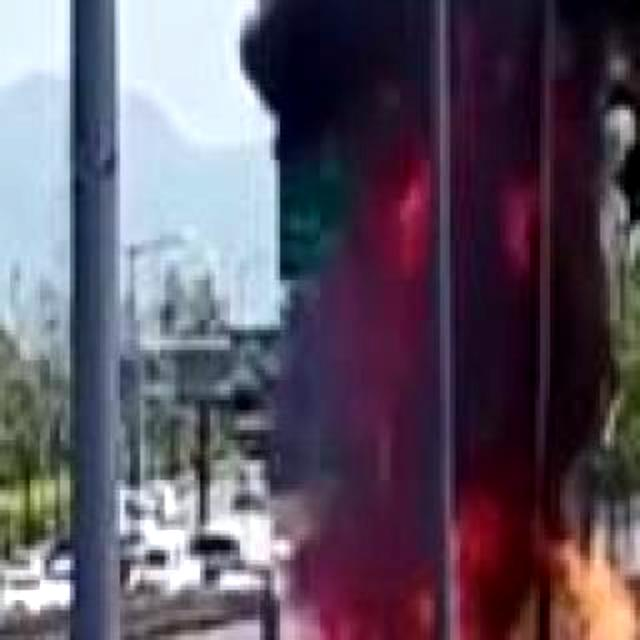fire: (551, 542, 640, 640)
smoke: (242, 0, 404, 220), (450, 0, 607, 121)
